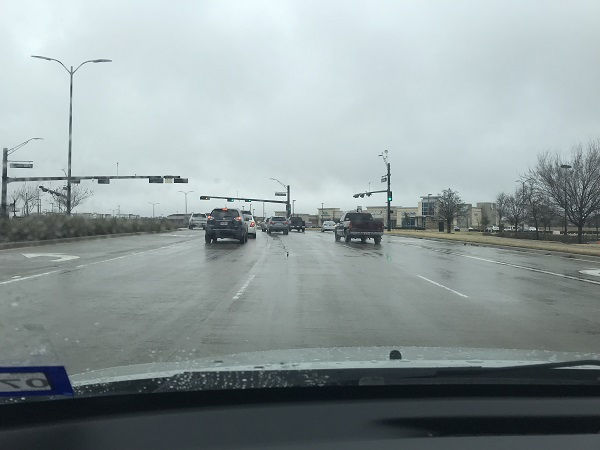car: (206, 209, 243, 247), (267, 216, 288, 232), (188, 211, 207, 228), (320, 220, 335, 231)
truck: (334, 212, 384, 244), (292, 216, 305, 229)
